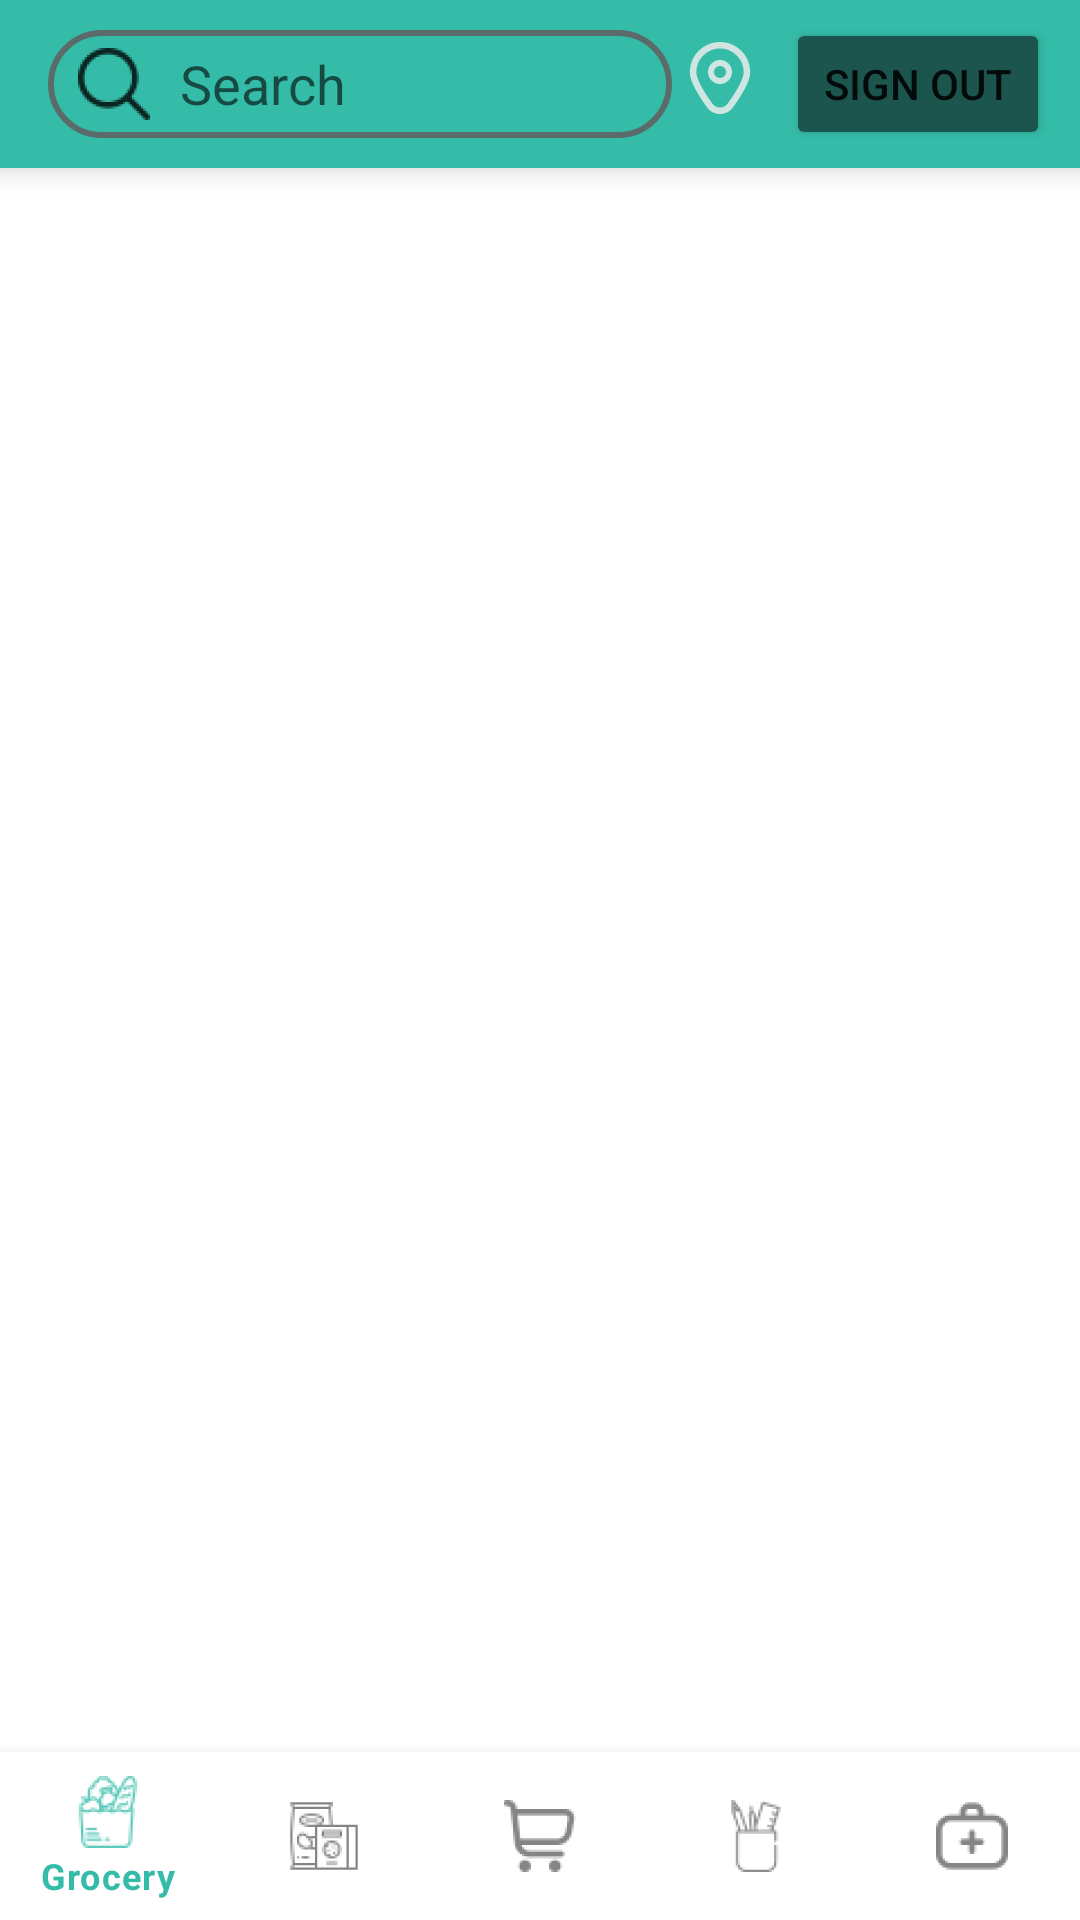

Icon bounding boxes for this 1080×1920 phone screenshot, format (x1,y1,x2,y2):
Location: (690,42,750,114)
